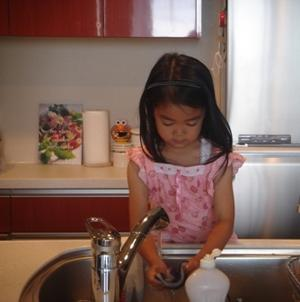person: (128, 53, 235, 288)
